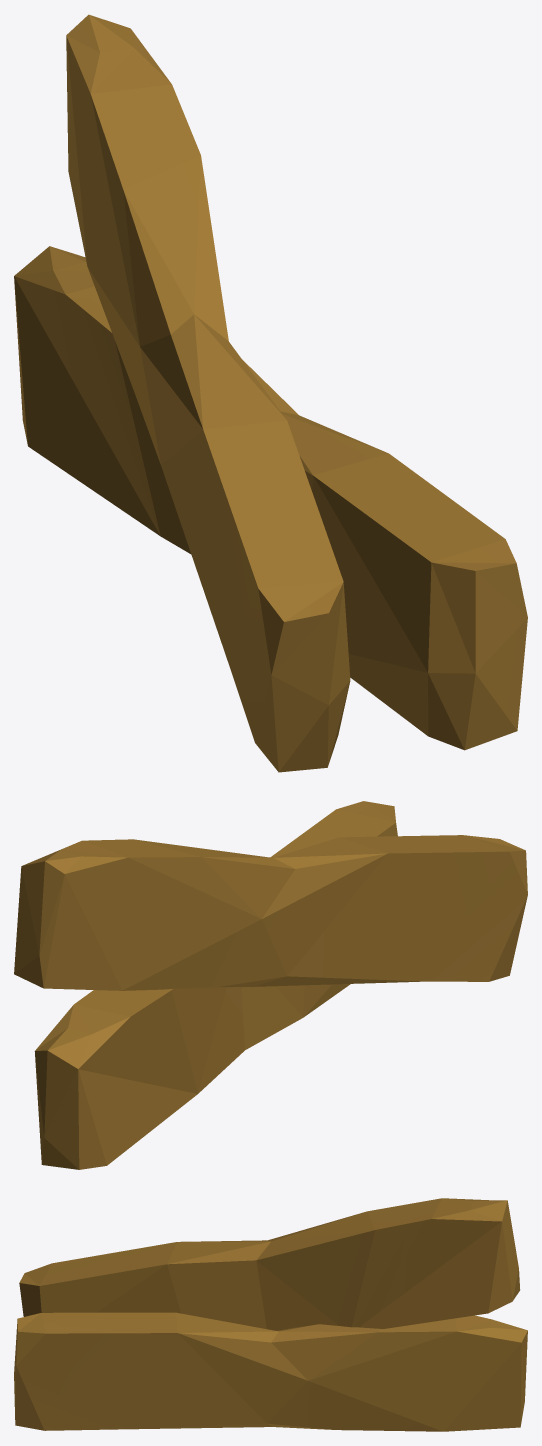
The model's file is WallBroken.fbx.
3 renders of one model, top to bottom at view 1: azimuth 30°, elevation 25°; view 2: azimuth 150°, elevation 25°; view 3: azimuth 270°, elevation 25°, orthographic. The views are drawn at different scales.
Visible parts, largest first — view 1: WallBroken; view 2: WallBroken; view 3: WallBroken.
Boxes of the visible parts, x1,y1,x2,y2 form: WallBroken: [14, 14, 527, 772]; WallBroken: [14, 801, 527, 1169]; WallBroken: [14, 1198, 527, 1431].
Size of the model in its own units: 161 by 228 by 449.
